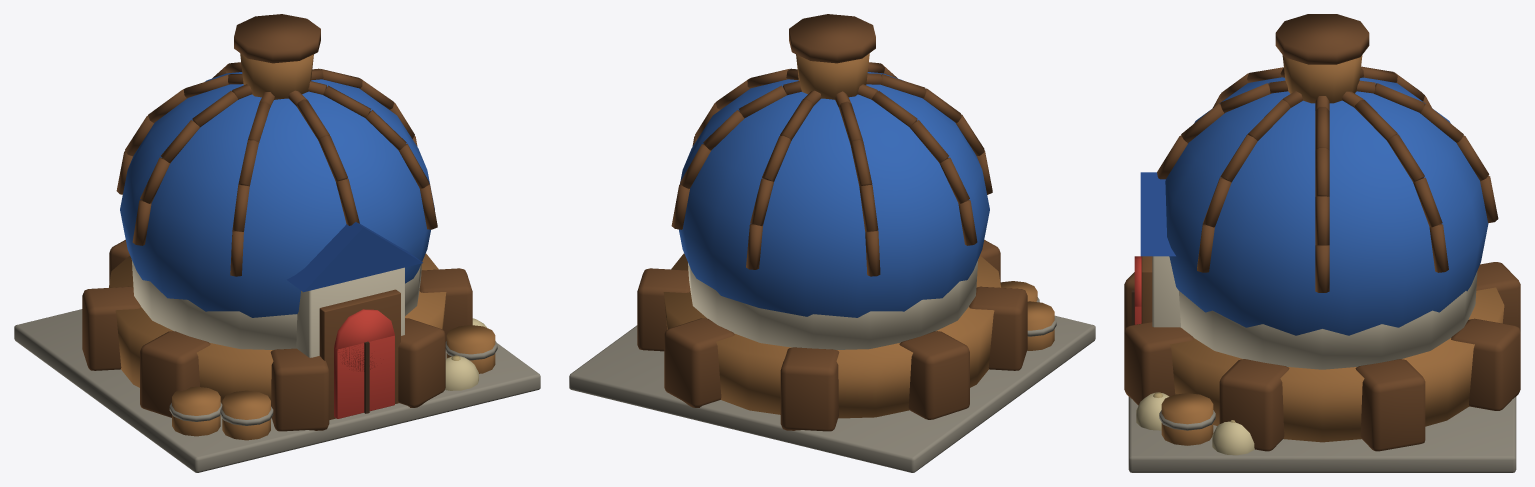
Rendered from k_granary.glb.
3 renders of one model, left to right at view 1: azimuth 30°, elevation 25°; view 2: azimuth 150°, elevation 25°; view 3: azimuth 270°, elevation 25°, orthographic. The views are drawn at different scales.
Visible parts, largest first — view 1: SK_k_granary; view 2: SK_k_granary; view 3: SK_k_granary.
Boxes of the visible parts, <box> form: SK_k_granary: <box>14,14,540,472</box>; SK_k_granary: <box>569,14,1095,472</box>; SK_k_granary: <box>1124,14,1520,472</box>.
Size of the model in its own units: 3.6 by 3.35 by 3.38.
